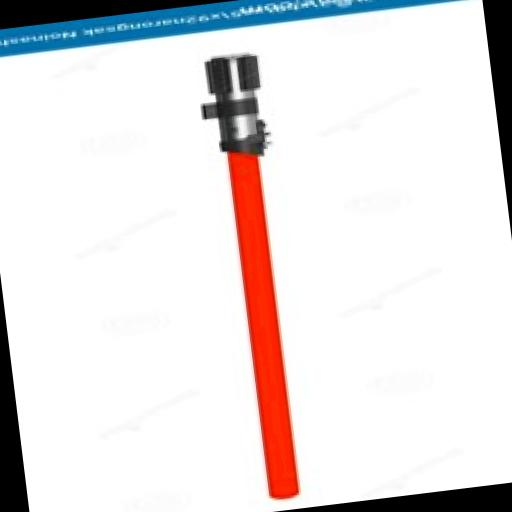sith saber: (190, 51, 320, 511)
